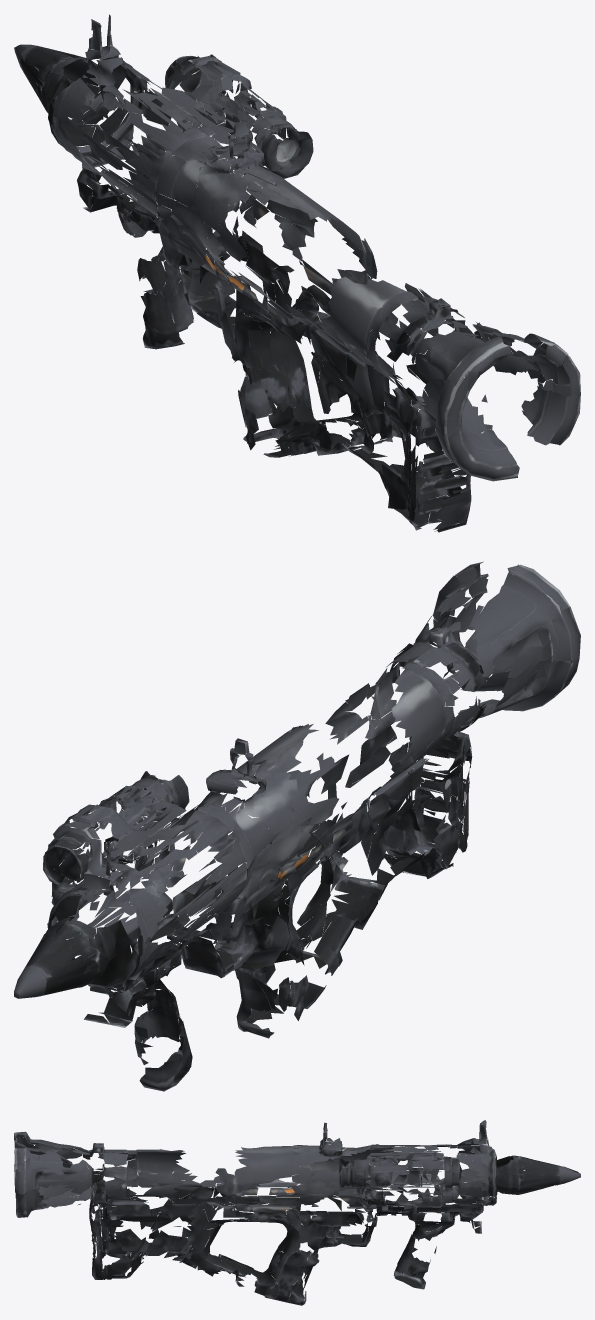
File: launcher.glb
3 renders of one model, top to bottom at view 1: azimuth 30°, elevation 25°; view 2: azimuth 150°, elevation 25°; view 3: azimuth 270°, elevation 25°, orthographic. The views are drawn at different scales.
Visible parts, largest first — view 1: LauncherBody; view 2: LauncherBody; view 3: LauncherBody.
Part boxes in pixels (x1=…): LauncherBody: x1=14, y1=14, x2=580, y2=532; LauncherBody: x1=14, y1=561, x2=580, y2=1091; LauncherBody: x1=14, y1=1120, x2=580, y2=1305.
Bounding box in the file's own units: 0.1769 × 0.3301 × 0.9596.
1 material, 1 textured.
